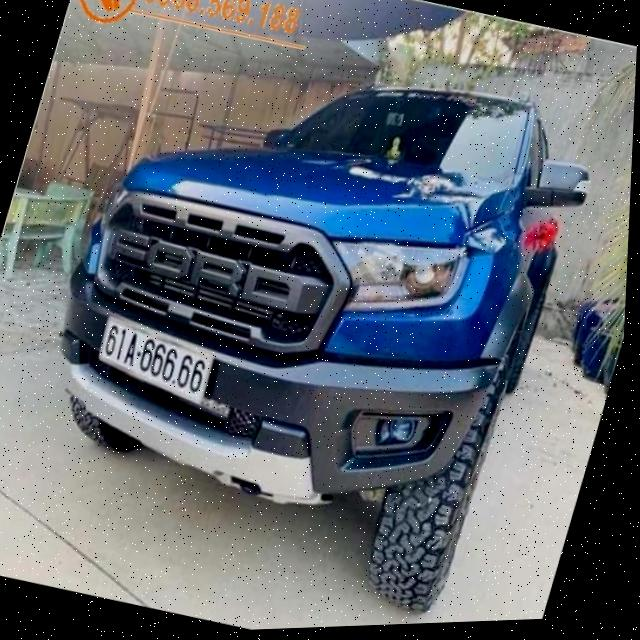car: (0, 0, 623, 583)
plate: (81, 309, 237, 418)
